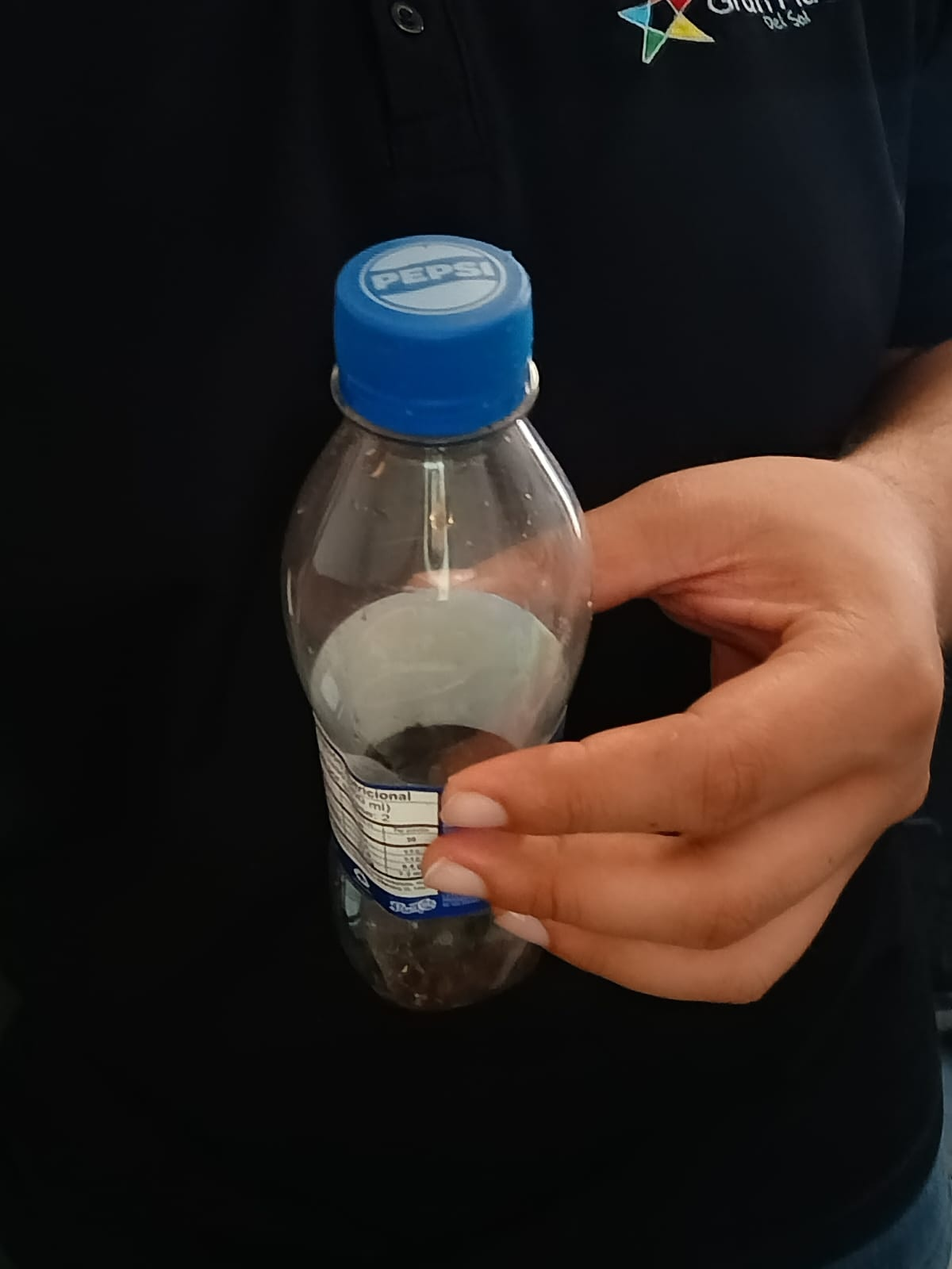Plastico: (281, 235, 595, 1014)
